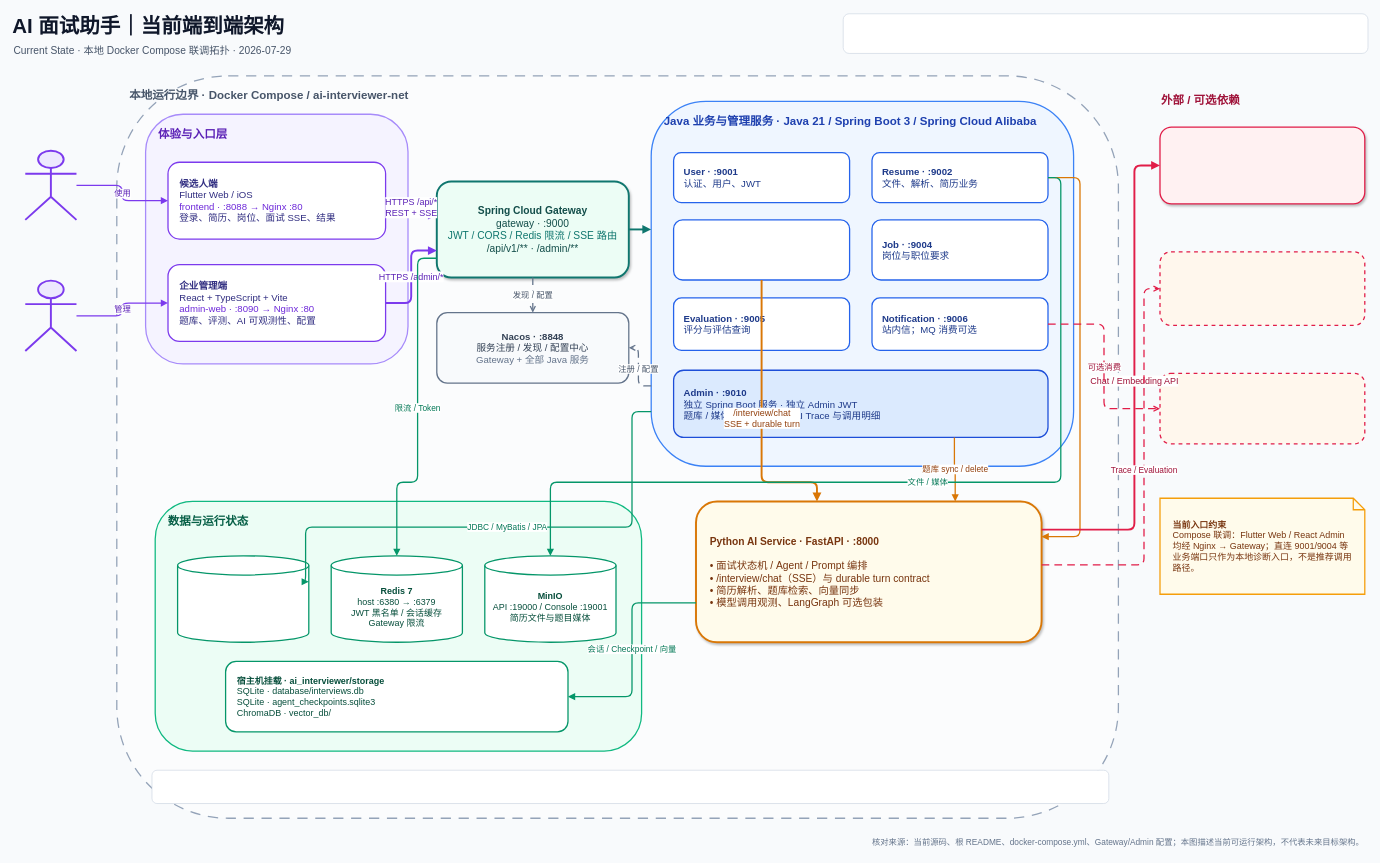
The diagram is 1380 pixels wide and 863 high, and some of its shapes have lost their labels. Here are the shapes that lost their labels. From the top down, the centre of each, then its label:
[1105,33]: 范围：系统/容器级 Architecture Overview；完整请求时序、模型调用清单和持久化清单在 Day 2 后续任务补充。
[50,184]: 候选人
[1262,166]: Azure OpenAI 兼容端点 Chat：主模型 + 备用模型 Embedding：题库向量化
[761,249]: Interview · :9003 会话 / 分支 / Turn 持久化 异步模型执行 + SSE
[1262,288]: LangSmith（可选） Trace / Dataset / Evaluation 默认由环境变量显式启用
[50,315]: 招聘 / 运营人员
[1262,408]: RocketMQ（可选） Notification 消费器 Compose 默认关闭
[243,599]: PostgreSQL 16 host :5433 → container :5432 Java 业务事实、面试分支/Turn Admin 题库、评测与可观测性
[630,787]: 图例 — 实线：同步请求 / 数据访问 - - - 虚线：注册发现 / 可选依赖 / 遥测 蓝色：Java 橙色：Python AI 绿色：数据 紫色：客户端
